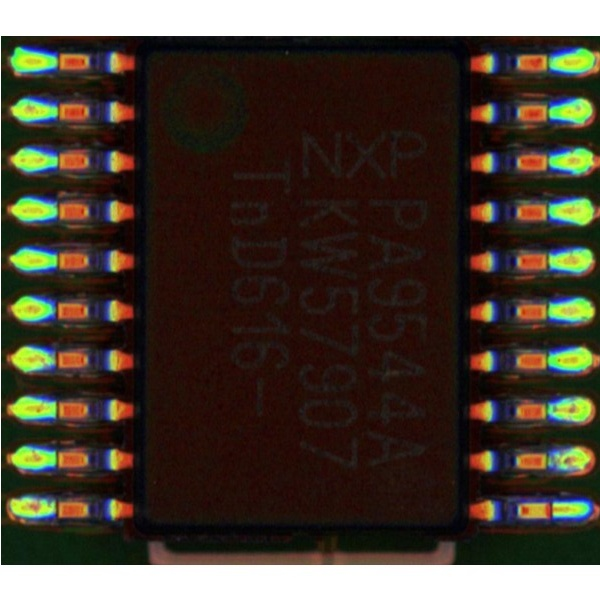Bad_podu: (542, 504, 560, 517)
